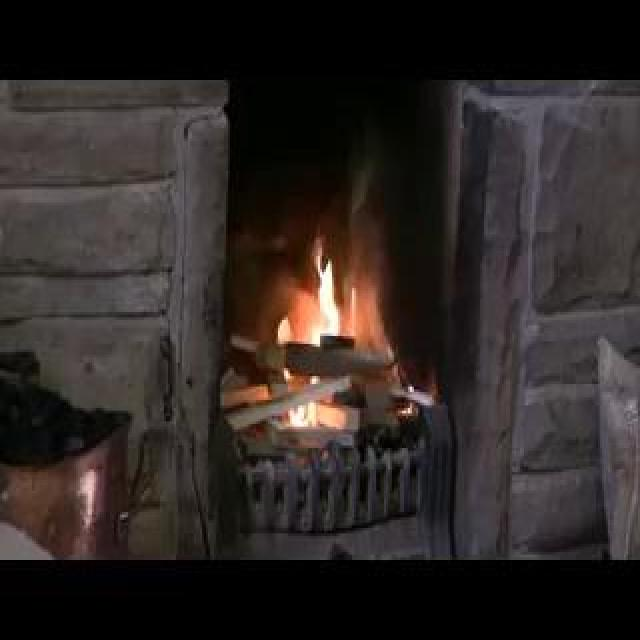fire: (274, 254, 355, 338), (287, 399, 329, 430)
